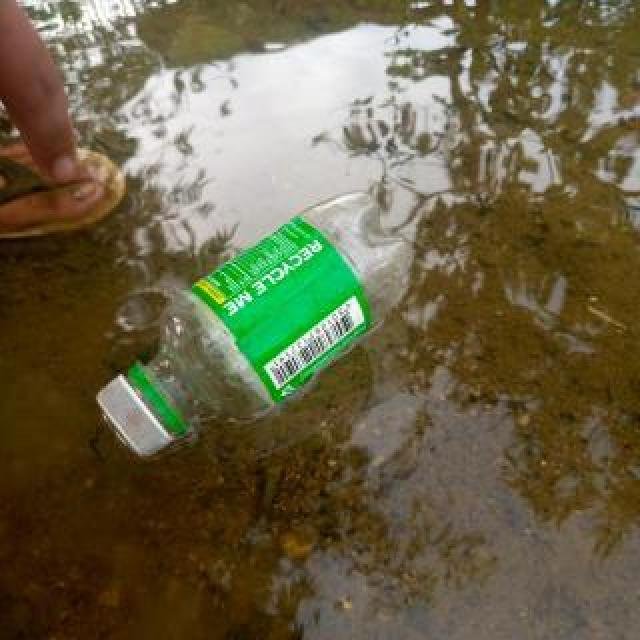bottle: (93, 189, 415, 457)
